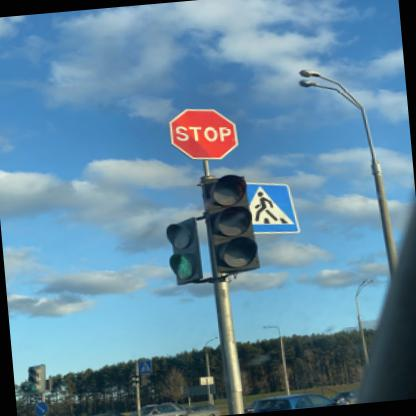crosswalk: (243, 176, 298, 236), (136, 358, 152, 374)
stop: (166, 105, 237, 164)
trafficlight: (198, 171, 258, 274), (162, 218, 200, 286), (18, 362, 47, 394)
